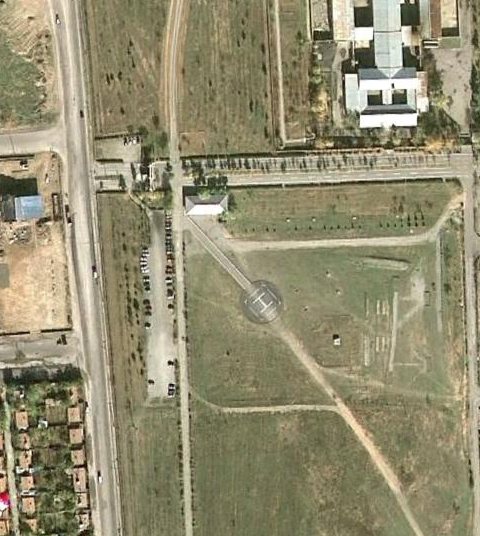heliport: (248, 287, 273, 315)
